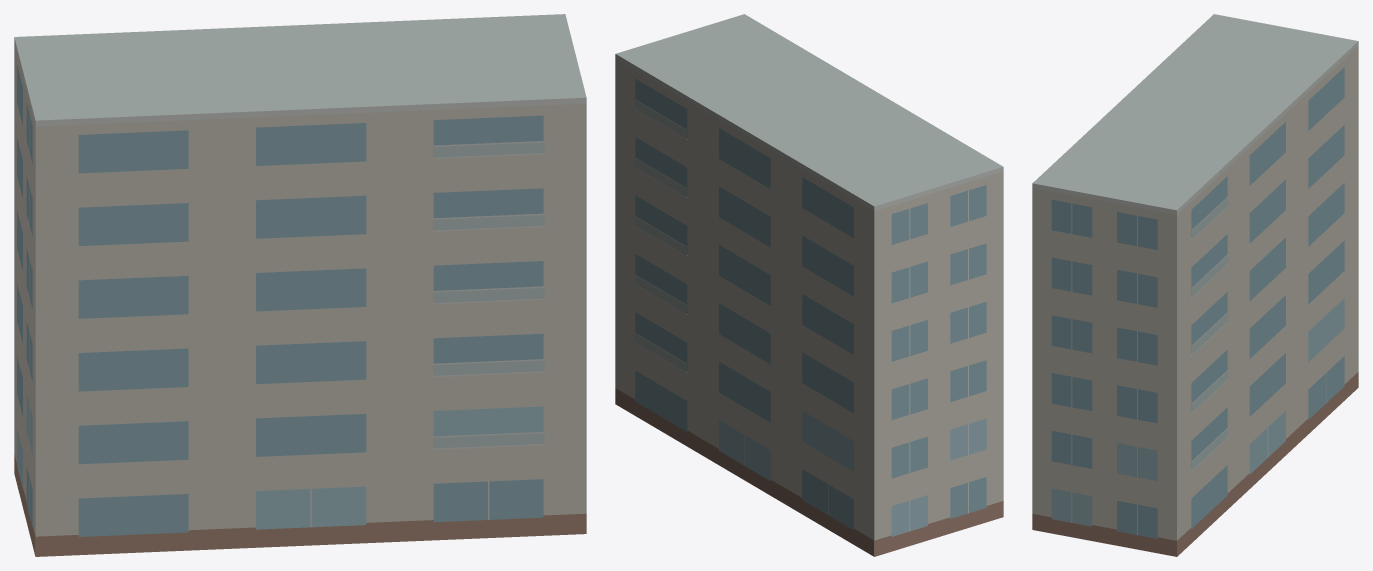
The model's file is survey-upis-32521879.glb.
The picture shows the model from 3 angles, left to right: view 1: azimuth 30°, elevation 25°; view 2: azimuth 150°, elevation 25°; view 3: azimuth 270°, elevation 25°; orthographic projection. The views are drawn at different scales.
Visible parts, largest first — view 1: survey-upis-32521879.tmp; view 2: survey-upis-32521879.tmp; view 3: survey-upis-32521879.tmp.
Boxes of the visible parts, x1,y1,x2,y2 form: survey-upis-32521879.tmp: (14,14,586,556); survey-upis-32521879.tmp: (615,14,1003,556); survey-upis-32521879.tmp: (1032,14,1358,556).
Size of the model in its own units: 22.25 by 18.3 by 15.61.
